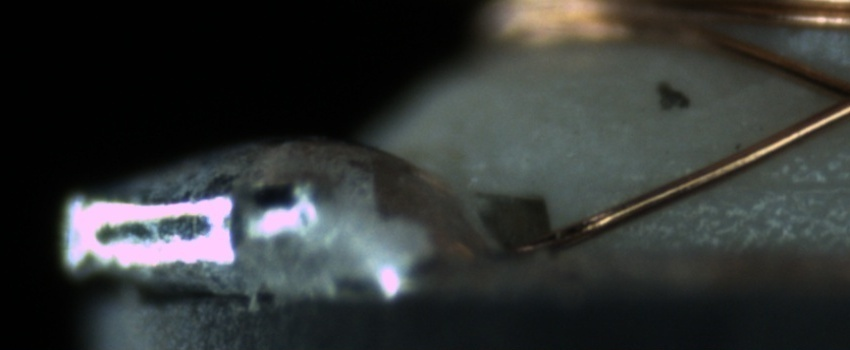CL: (803, 65, 850, 131)
DL: (626, 150, 850, 217)
